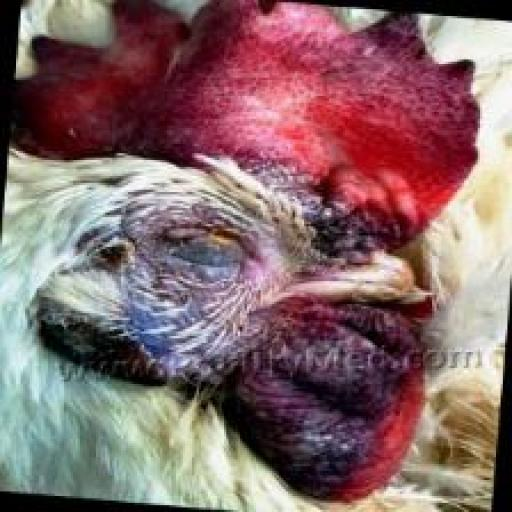disease: (244, 310, 388, 469), (139, 186, 277, 287), (291, 164, 400, 262)
